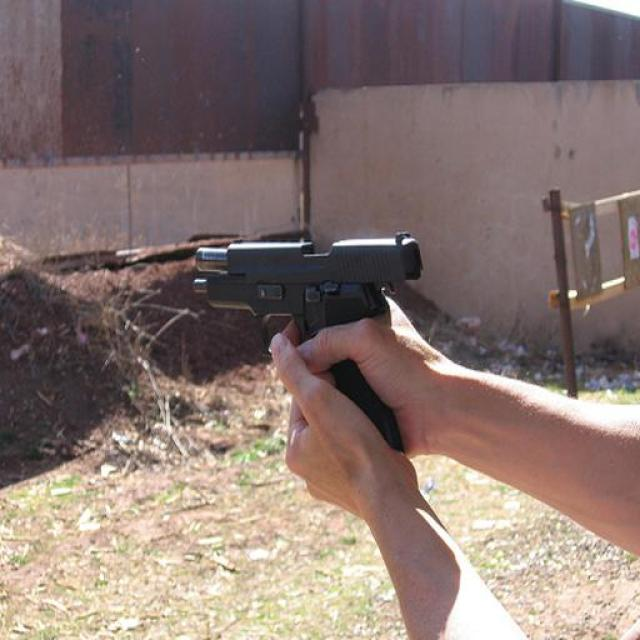pistol: (189, 231, 420, 455)
